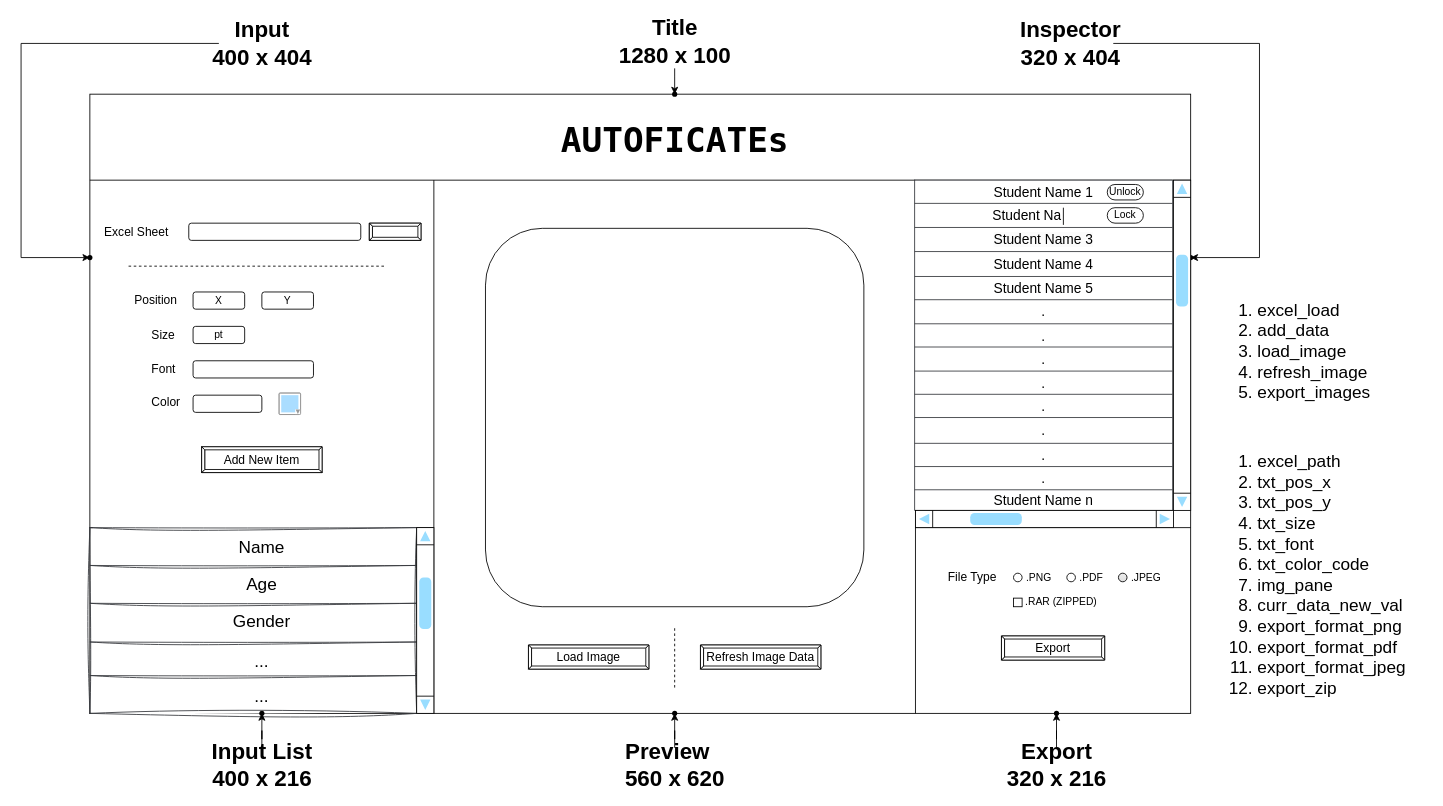
The diagram is 1443 pixels wide and 806 high, and some of its shapes have lost their labels. The shapes that lost their labels are listed below. From the top down, each one's centre as x and y in pixels, then its label:
At (274,231): "Path...".
At (395,231): "Load".
At (252,369): "Font Name".
At (227,403): "HEX Code".
